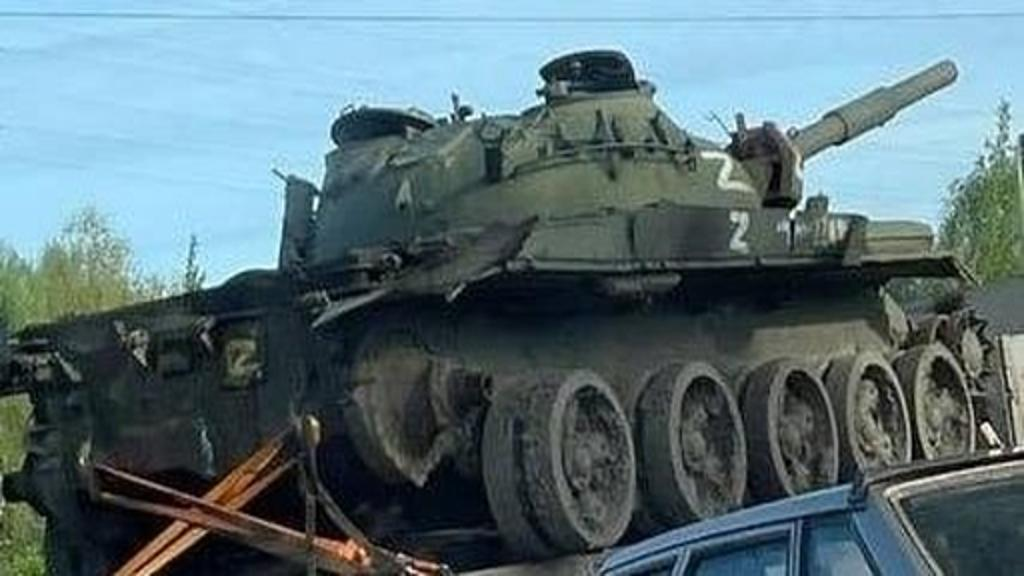TANK: (0, 44, 1012, 564)
